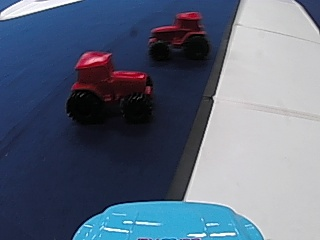tractor: (65, 46, 153, 124), (146, 11, 210, 61)
